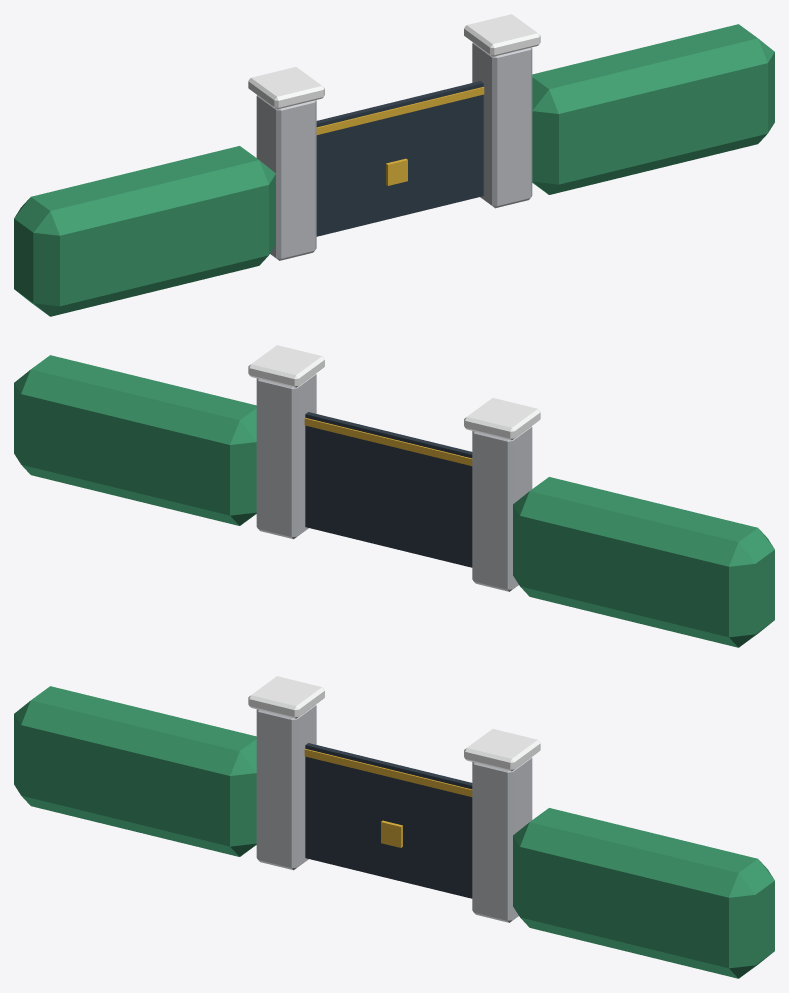
Rendered from gate_closed.fbx.
3 views of the same model, one above another, from view 1: azimuth 30°, elevation 25°; view 2: azimuth 150°, elevation 25°; view 3: azimuth 330°, elevation 25° (orthographic).
Parts seen in each view (by area): view 1: gate_closed; view 2: gate_closed; view 3: gate_closed.
Boxes of the visible parts, x1,y1,x2,y2 form: gate_closed: [14, 14, 774, 316]; gate_closed: [14, 345, 774, 647]; gate_closed: [14, 676, 774, 978].
Size of the model in its own units: 11 by 2.38 by 1.
